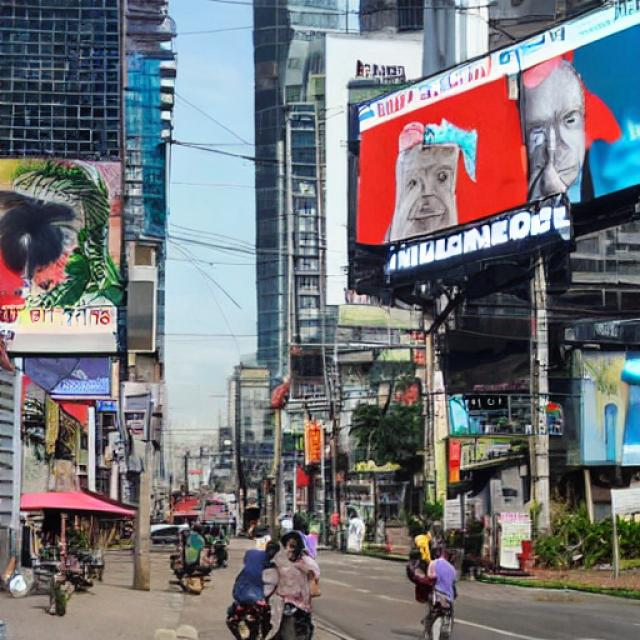Billboard: (342, 0, 639, 292), (0, 152, 122, 342)
